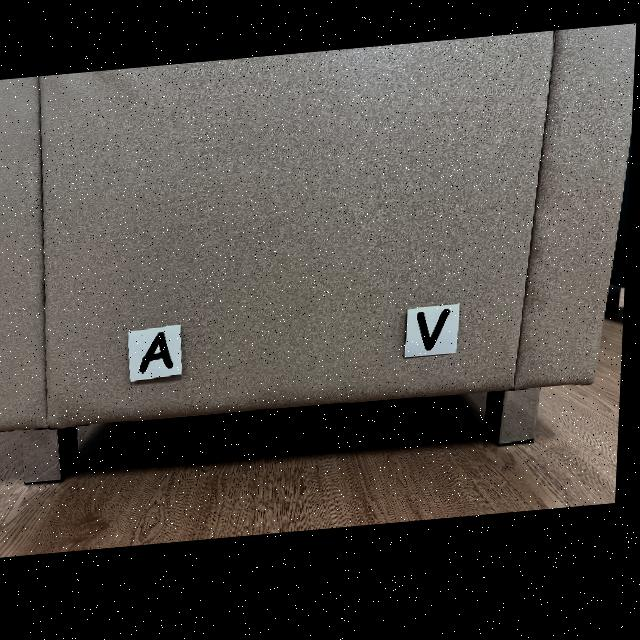A: (143, 336, 177, 376)
V: (420, 318, 454, 359)
